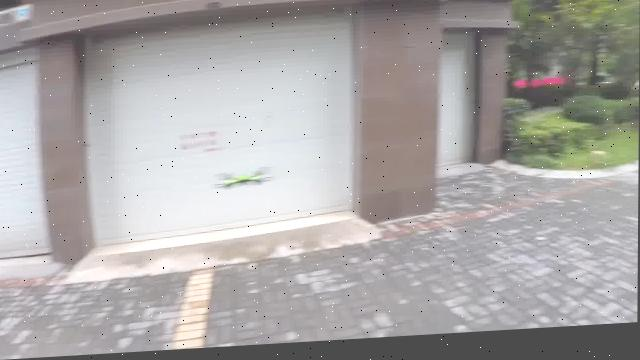drone: (210, 158, 286, 195)
